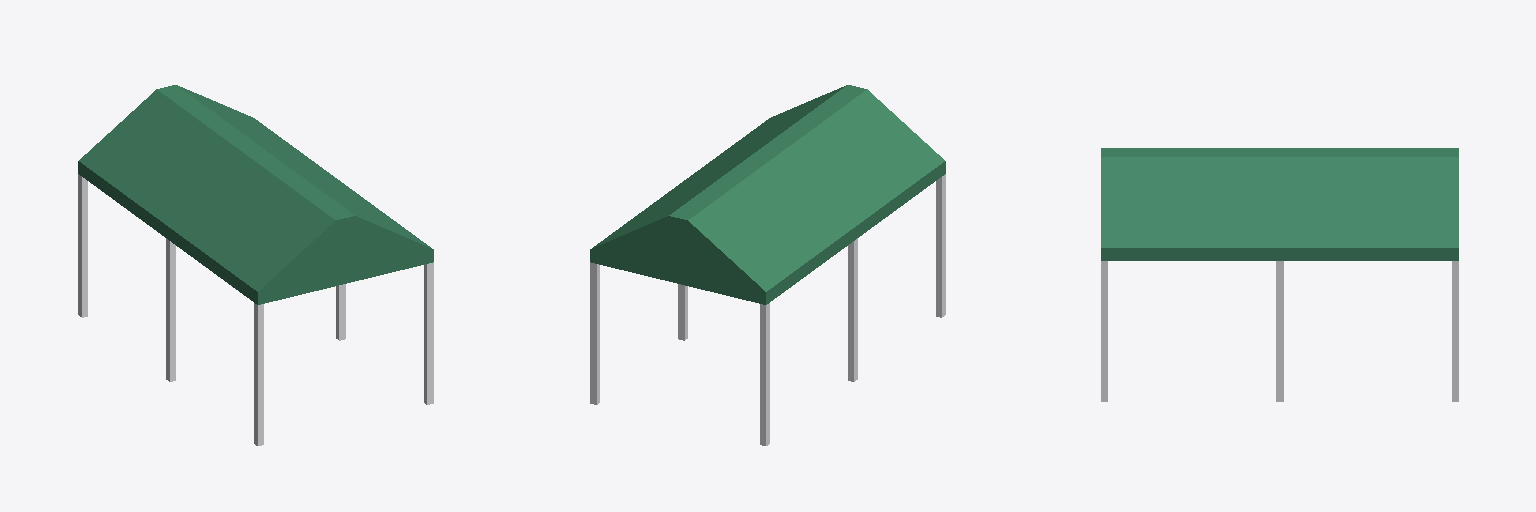
File: tentRoof.obj
3 views of the same model, side by side, from view 1: azimuth 30°, elevation 25°; view 2: azimuth 150°, elevation 25°; view 3: azimuth 270°, elevation 25° (orthographic).
Visible parts, largest first — view 1: tentRoof; view 2: tentRoof; view 3: tentRoof.
Part boxes in pixels (x1,y1,x2,y2): tentRoof: (78, 85, 433, 445); tentRoof: (590, 85, 945, 445); tentRoof: (1101, 148, 1458, 401).
Bounding box in the file's own units: 0.56 × 0.63 × 0.99.